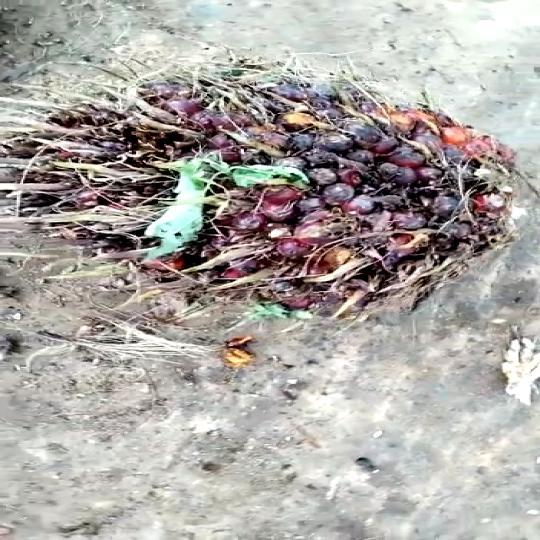masak: (7, 46, 540, 330)
